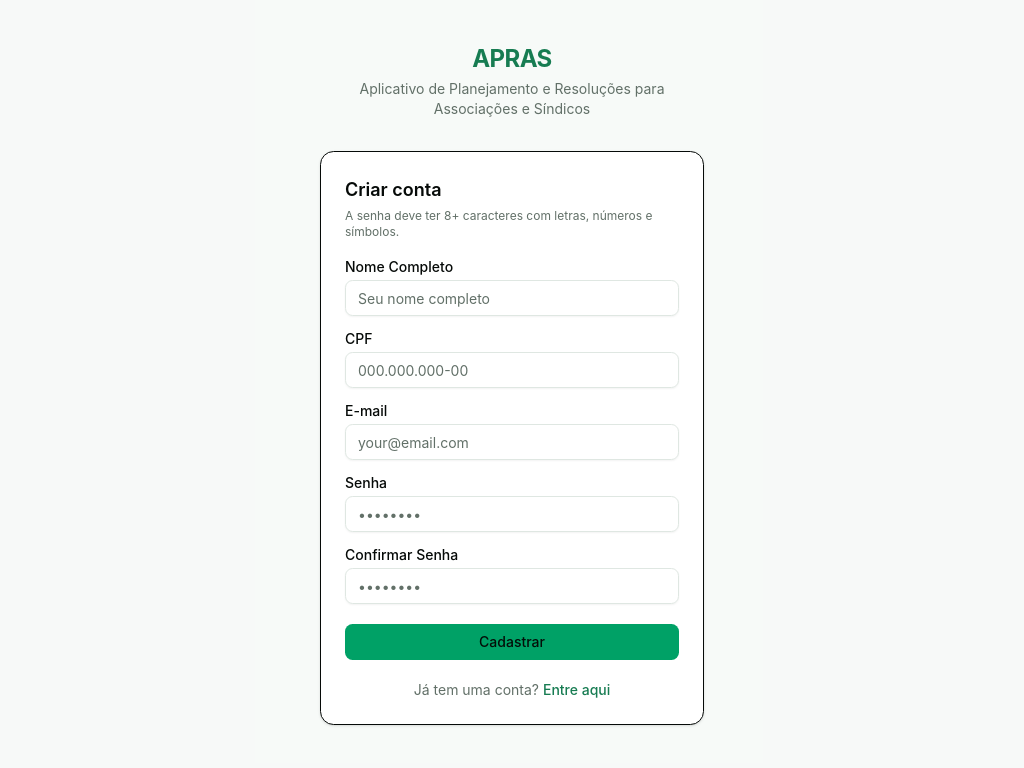
Test: SignupPage › shows error when password is too short
Type "Test User" into the field labelled "Nome Completo". click: (512, 298)
box: [345,280,679,316]
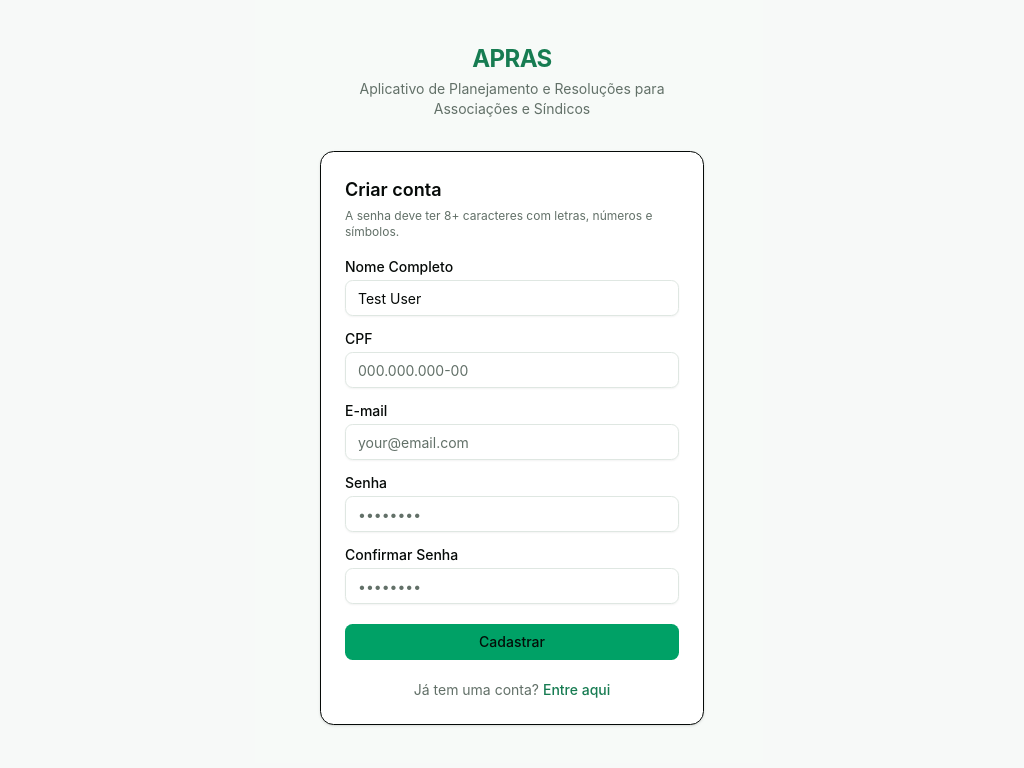
Type "529.982.247-25" into the field labelled "CPF". click: (512, 370)
box: [345,352,679,388]
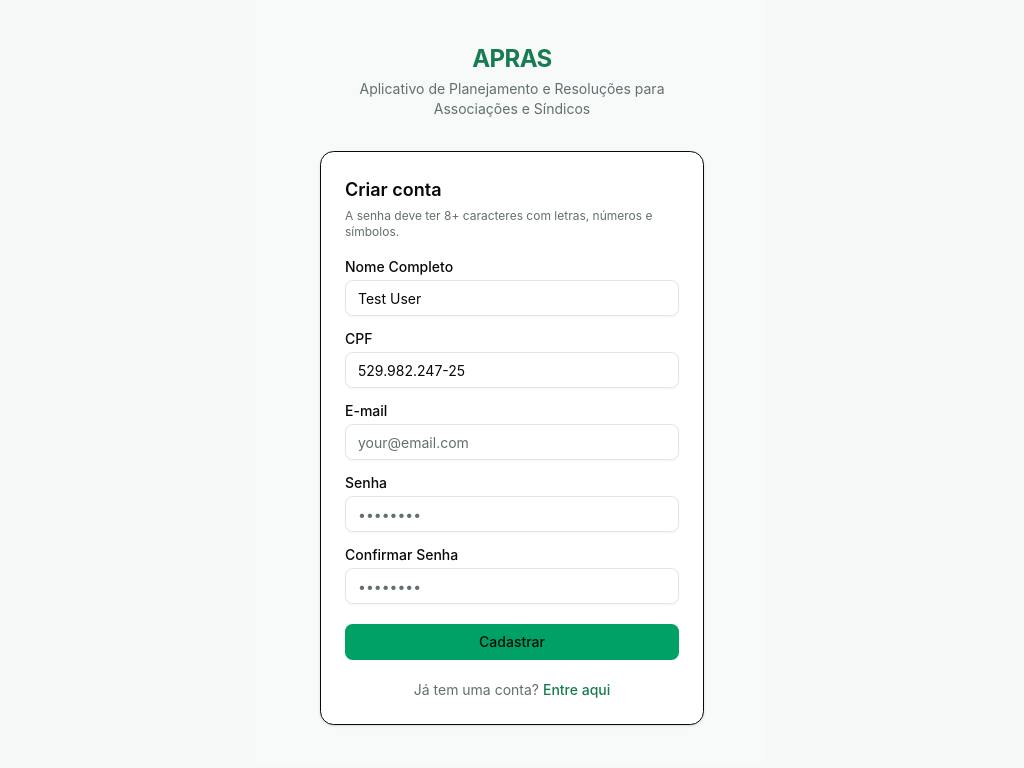
Type "test@test.com" into the field labelled "E-mail". click: (512, 442)
box: [345,424,679,460]
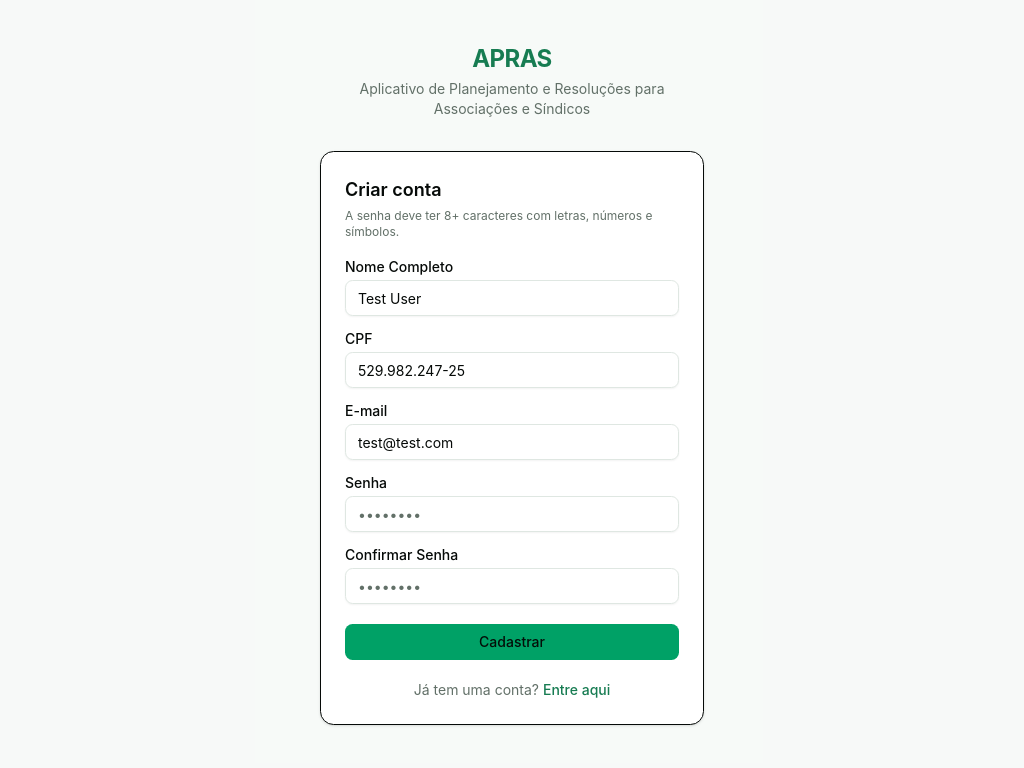
Type "short" into the password field labelled "Senha". click: (512, 514)
box: [345,496,679,532]
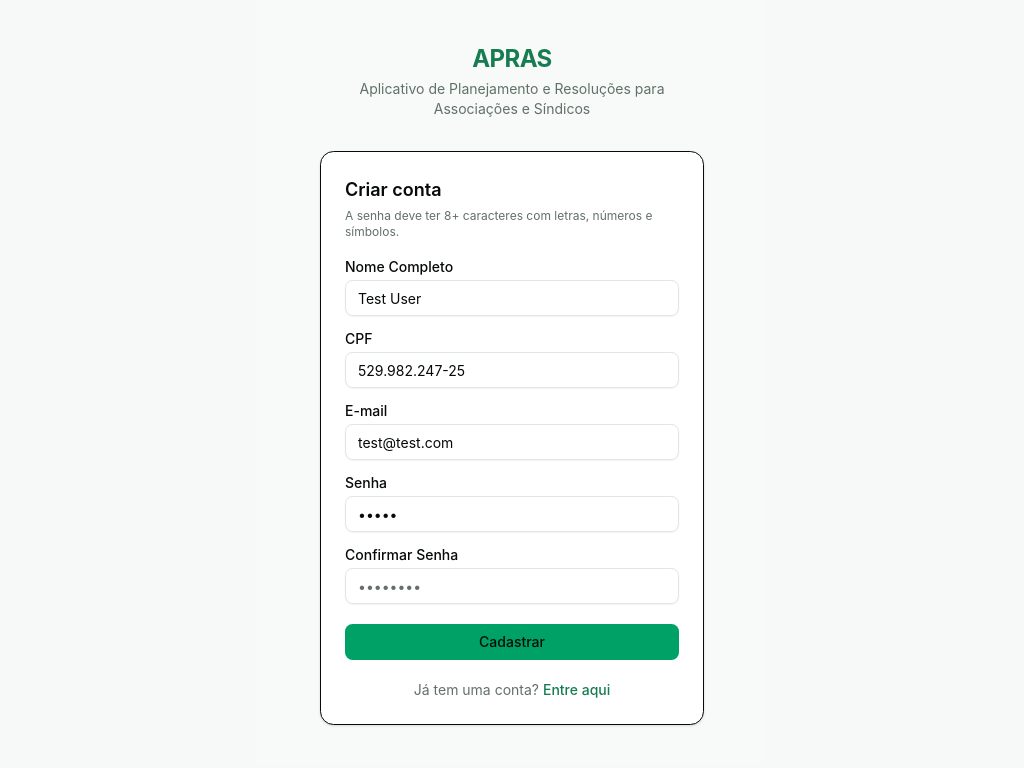
Type "short" into the password field labelled "Confirmar Senha". click: (512, 586)
box: [345,568,679,604]
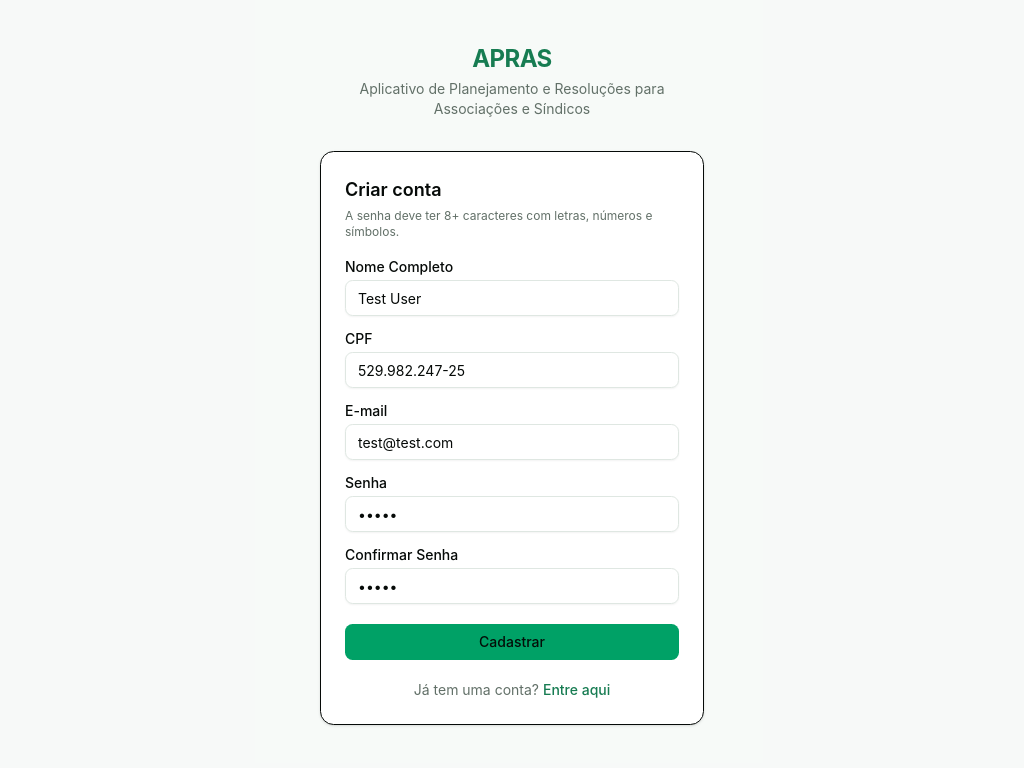
Click the button "Cadastrar". click: (512, 642)
box: [345,624,679,660]
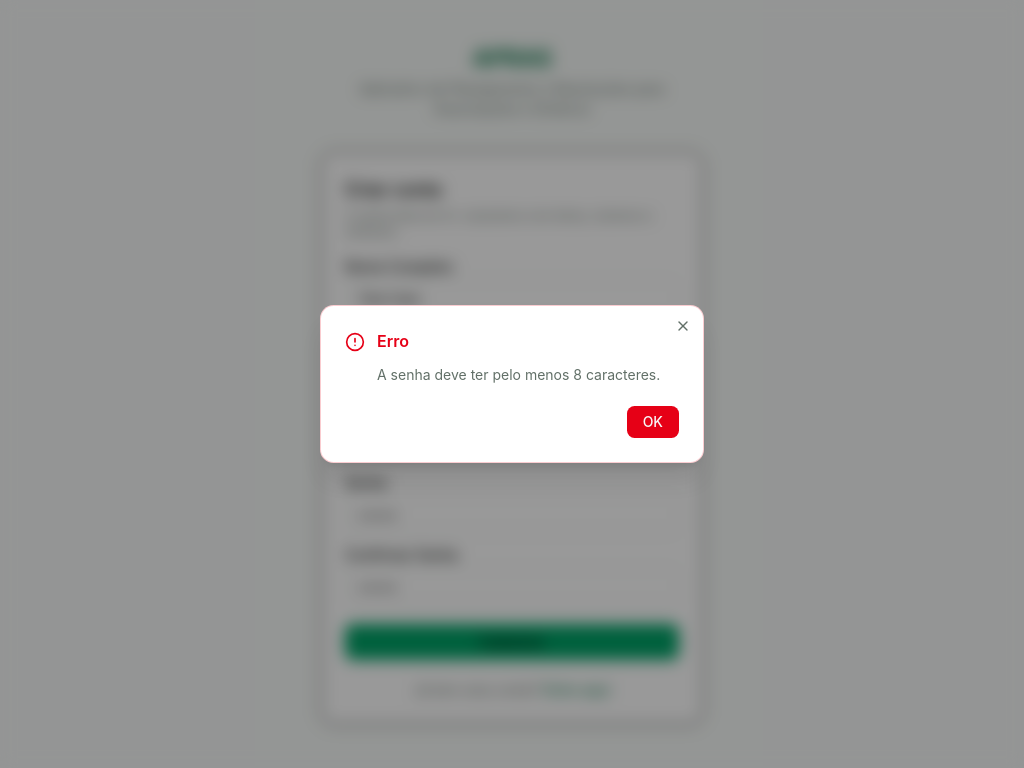
Result: the text "A senha deve ter pelo menos 8 caracteres." is shown at [377,366,660,383]
